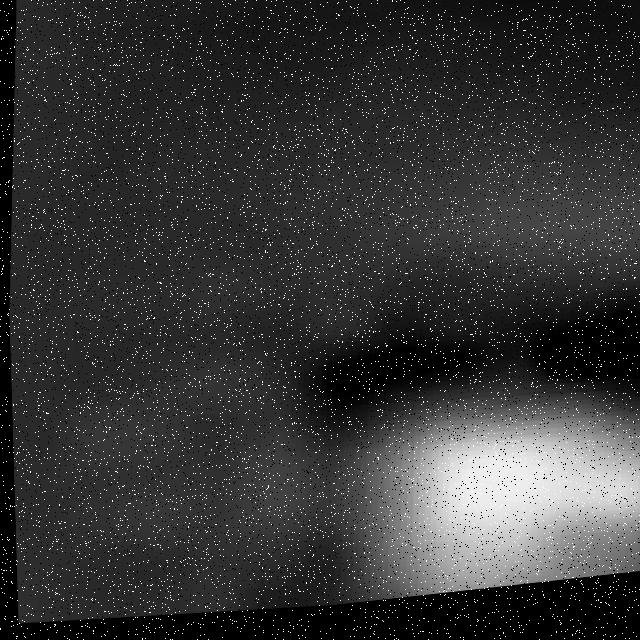person: (277, 352, 640, 618)
